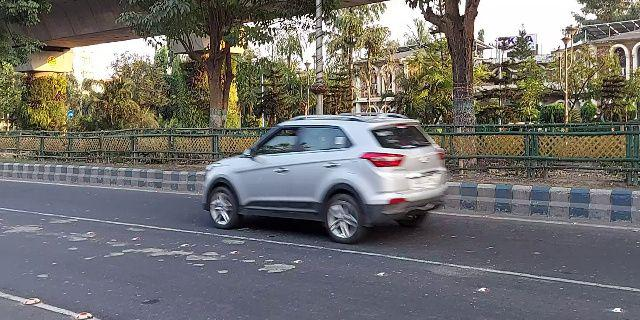Car: (200, 109, 448, 249)
